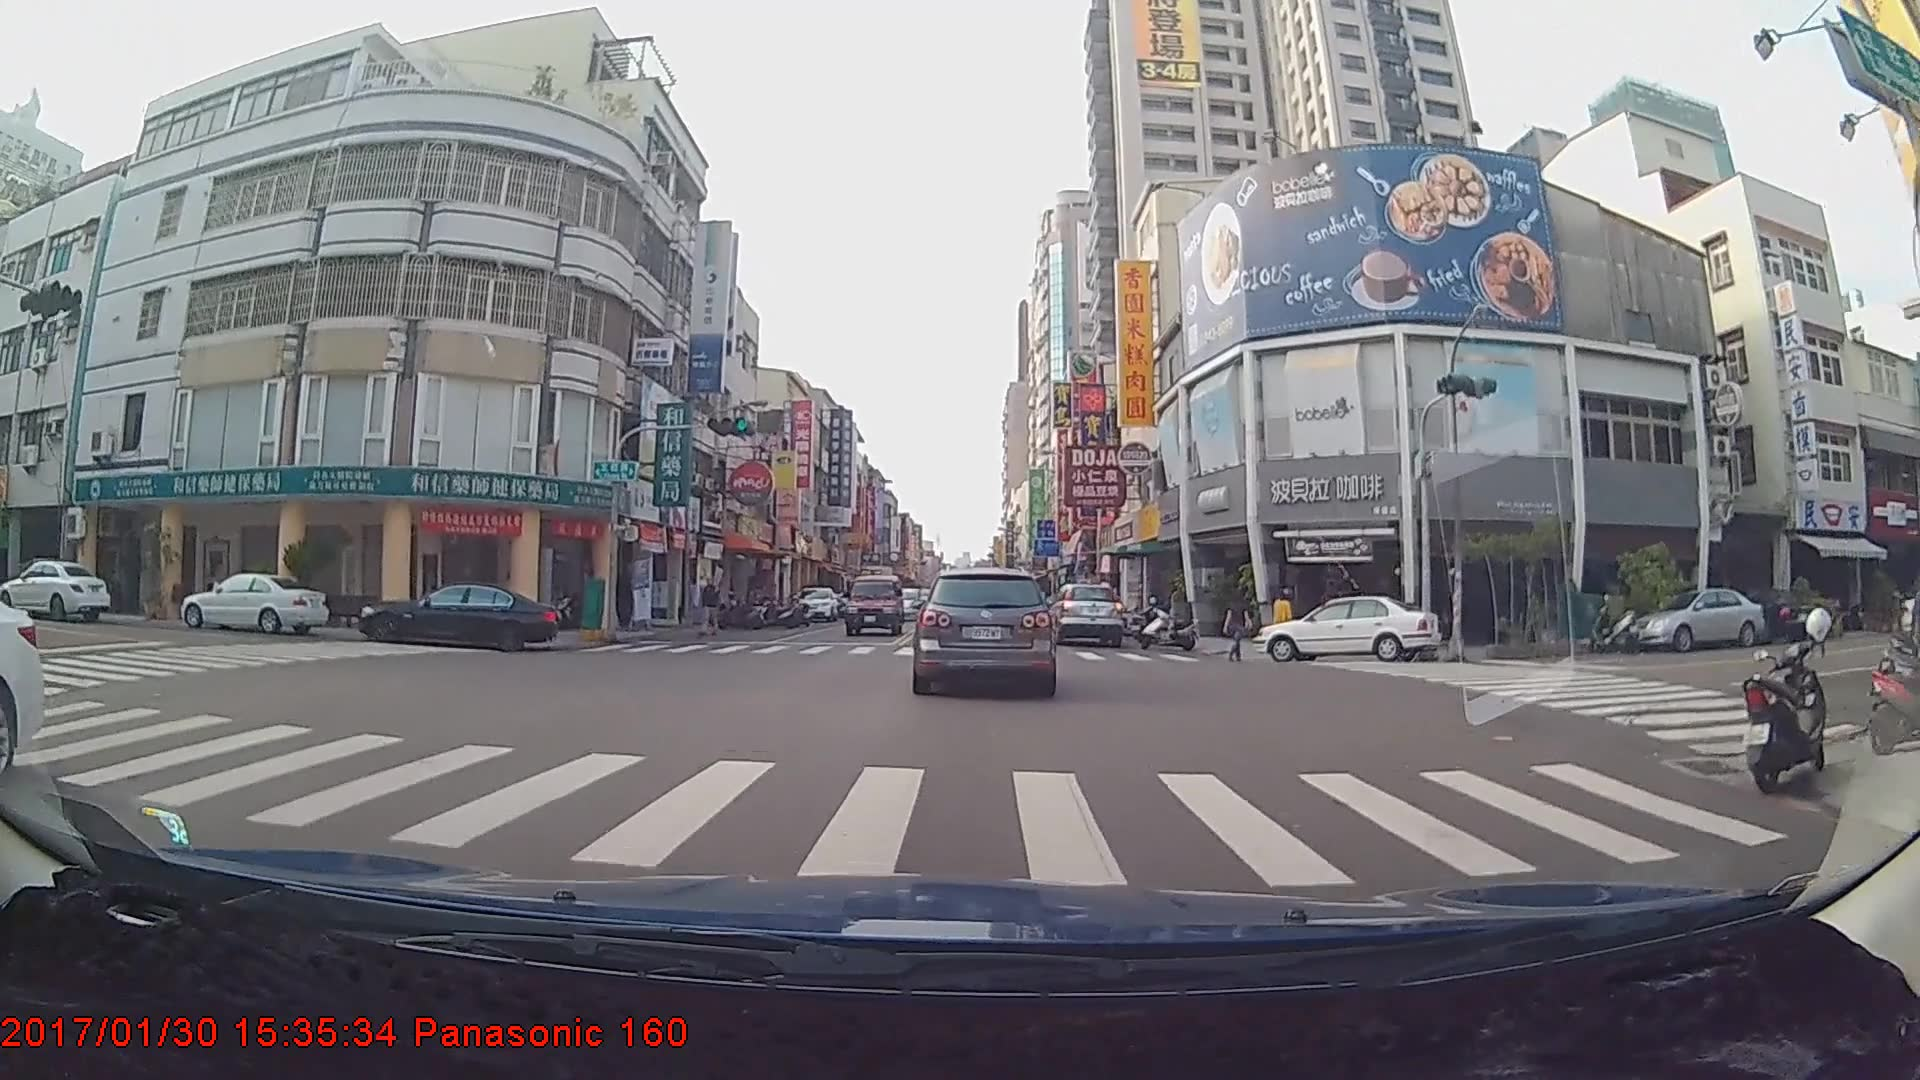pedestrian: (1224, 590, 1254, 664), (1270, 588, 1297, 660), (699, 575, 722, 640)
vehicle: (912, 565, 1055, 694), (353, 580, 557, 650), (1254, 595, 1440, 663), (180, 571, 332, 636), (1628, 586, 1764, 653), (3, 554, 114, 625), (1046, 580, 1122, 646), (841, 573, 904, 637), (791, 582, 838, 620)
